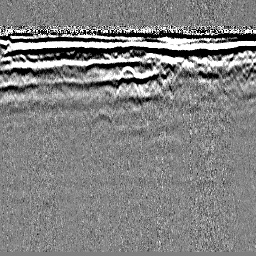cavity: (116, 65, 139, 87)
